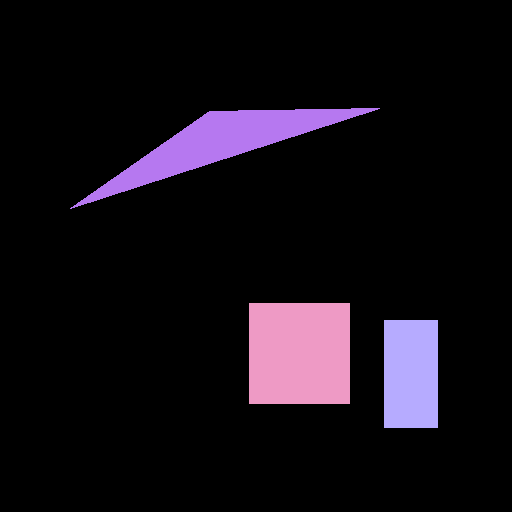rectangle: (384, 320, 437, 427)
square: (249, 303, 349, 403)
triangle: (70, 108, 379, 208)
